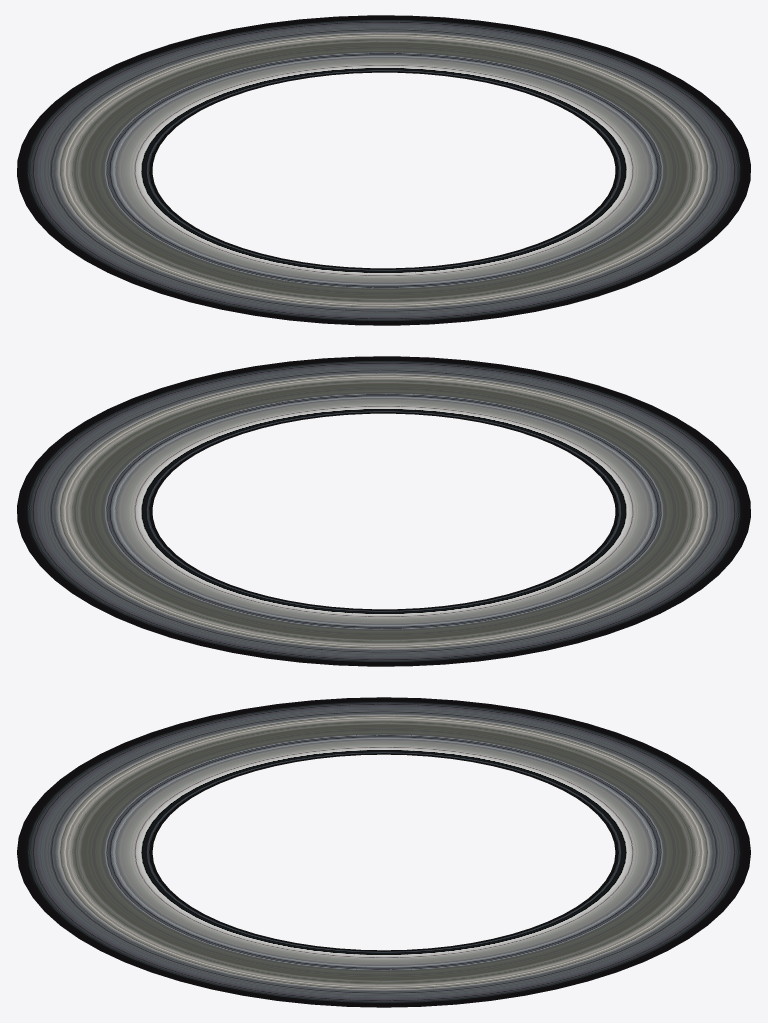
File: Rings_Low.fbx
3 renders of one model, top to bottom at view 1: azimuth 30°, elevation 25°; view 2: azimuth 150°, elevation 25°; view 3: azimuth 270°, elevation 25°, orthographic.
Visible parts, largest first — view 1: Saturn_Rings_Low; view 2: Saturn_Rings_Low; view 3: Saturn_Rings_Low.
Part boxes in pixels (left/top/right/bottom): Saturn_Rings_Low: left=17, top=15, right=750, bottom=325; Saturn_Rings_Low: left=17, top=356, right=750, bottom=666; Saturn_Rings_Low: left=17, top=697, right=750, bottom=1007.
Size of the model in its own units: 452 by 0 by 452.
